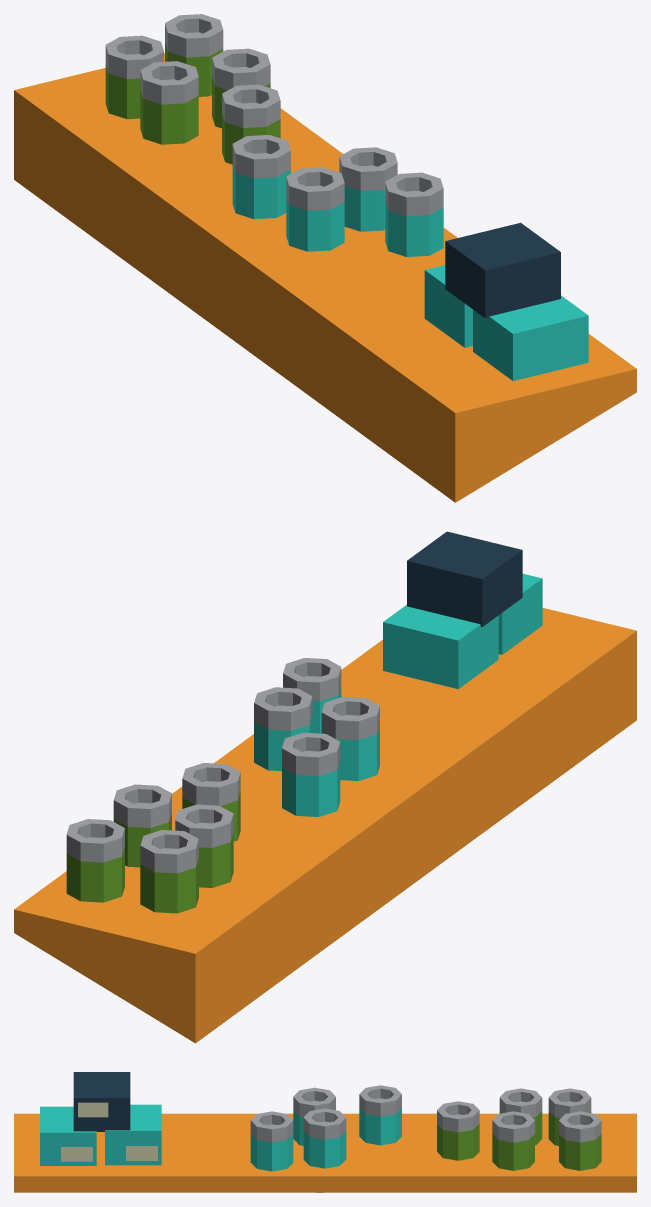
Rendered from Stand1.fbx.
The picture shows the model from 3 angles, top to bottom: view 1: azimuth 30°, elevation 25°; view 2: azimuth 150°, elevation 25°; view 3: azimuth 270°, elevation 25°; orthographic projection. The views are drawn at different scales.
Visible parts, largest first — view 1: Cube.020_158, Cube.039_182, Cube.037_180, Circle.041_164, Circle.040_163, Circle.051_174, Circle.042_165, Circle.043_166, Circle.052_175, Circle.048_171, Circle.050_173, Circle.049_172 (+1 smaller); view 2: Cube.020_158, Cube.039_182, Cube.038_181, Circle.042_165, Circle.050_173, Circle.052_175, Circle.041_164, Circle.043_166, Circle.051_174, Circle.049_172, Circle.048_171, Circle.040_163 (+1 smaller); view 3: Cube.020_158, Cube.039_182, Cube.038_181, Cube.037_180, Circle.040_163, Circle.043_166, Circle.042_165, Circle.050_173, Circle.048_171, Circle.049_172, Circle.052_175, Circle.041_164 (+1 smaller).
Part boxes in pixels (x1=…): Cube.020_158: x1=14, y1=53, x2=636, y2=502; Cube.039_182: x1=445, y1=222, x2=560, y2=318; Cube.037_180: x1=473, y1=295, x2=588, y2=380; Circle.041_164: x1=286, y1=167, x2=344, y2=251; Circle.040_163: x1=385, y1=172, x2=443, y2=256; Circle.051_174: x1=140, y1=61, x2=198, y2=144; Circle.042_165: x1=232, y1=134, x2=290, y2=219; Circle.043_166: x1=339, y1=147, x2=397, y2=231; Circle.052_175: x1=105, y1=35, x2=163, y2=119; Circle.048_171: x1=222, y1=84, x2=280, y2=164; Circle.050_173: x1=165, y1=14, x2=223, y2=96; Circle.049_172: x1=212, y1=48, x2=270, y2=128; Cube.020_158: x1=14, y1=608, x2=636, y2=1043; Cube.039_182: x1=407, y1=531, x2=522, y2=626; Cube.038_181: x1=383, y1=605, x2=498, y2=689; Circle.042_165: x1=282, y1=732, x2=340, y2=816; Circle.050_173: x1=66, y1=819, x2=124, y2=902; Circle.052_175: x1=140, y1=830, x2=198, y2=913; Circle.041_164: x1=321, y1=696, x2=379, y2=780; Circle.043_166: x1=254, y1=687, x2=312, y2=771; Circle.051_174: x1=175, y1=804, x2=233, y2=887; Circle.049_172: x1=113, y1=784, x2=171, y2=867; Circle.048_171: x1=182, y1=763, x2=240, y2=841; Circle.040_163: x1=283, y1=658, x2=341, y2=733; Cube.020_158: x1=14, y1=1113, x2=636, y2=1192; Cube.039_182: x1=73, y1=1072, x2=130, y2=1131; Cube.038_181: x1=105, y1=1104, x2=161, y2=1165; Cube.037_180: x1=40, y1=1106, x2=96, y2=1165; Circle.040_163: x1=250, y1=1111, x2=293, y2=1171; Circle.043_166: x1=303, y1=1108, x2=346, y2=1168; Circle.042_165: x1=359, y1=1085, x2=401, y2=1145; Circle.050_173: x1=559, y1=1111, x2=601, y2=1170; Circle.048_171: x1=437, y1=1101, x2=479, y2=1160; Circle.049_172: x1=492, y1=1111, x2=534, y2=1170; Circle.052_175: x1=548, y1=1088, x2=591, y2=1145; Circle.041_164: x1=293, y1=1087, x2=335, y2=1145.
Size of the model in its own units: 16.22 by 15.69 by 68.29.
